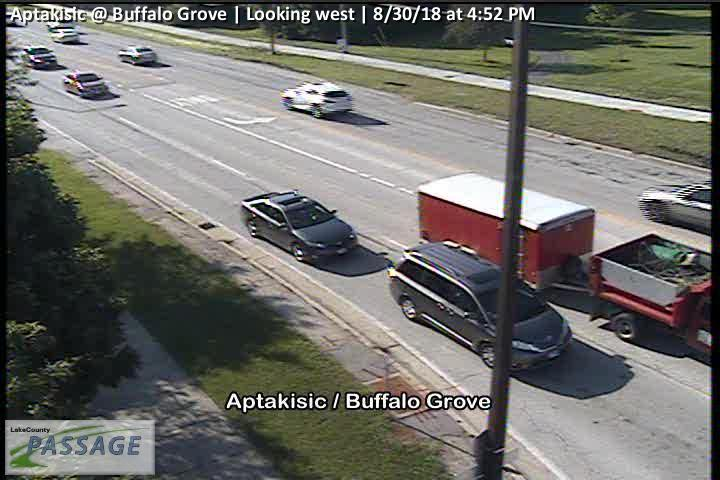SUV: (386, 240, 571, 375)
Sedan: (240, 190, 357, 261), (638, 182, 712, 230), (280, 82, 353, 118), (62, 71, 106, 97), (23, 46, 56, 67), (119, 46, 154, 64), (51, 27, 81, 43)
Truck: (415, 173, 713, 360)
